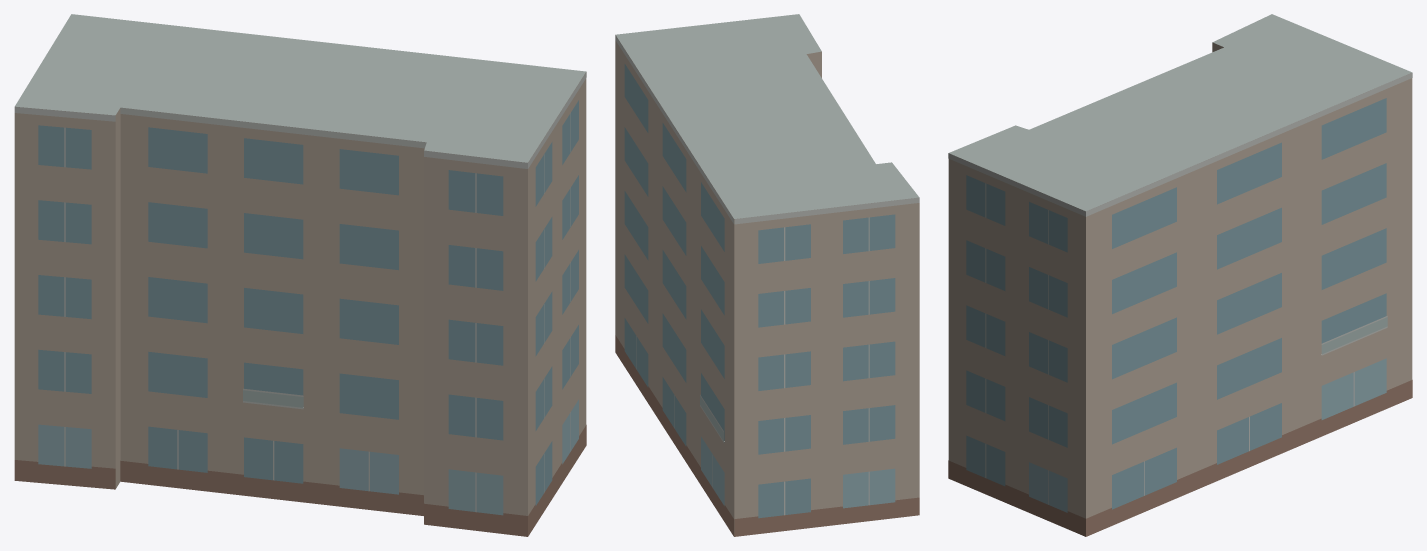
The model's file is survey-upis-32769053.glb.
3 views of the same model, side by side, from view 1: azimuth 30°, elevation 25°; view 2: azimuth 150°, elevation 25°; view 3: azimuth 270°, elevation 25° (orthographic). The views are drawn at different scales.
Parts seen in each view (by area): view 1: survey-upis-32769053.tmp; view 2: survey-upis-32769053.tmp; view 3: survey-upis-32769053.tmp.
Part boxes in pixels (bbox=[...]): survey-upis-32769053.tmp: bbox=[14, 14, 586, 536]; survey-upis-32769053.tmp: bbox=[615, 14, 919, 536]; survey-upis-32769053.tmp: bbox=[948, 14, 1412, 536].
Size of the model in its own units: 18.8 by 14.45 by 18.67.
